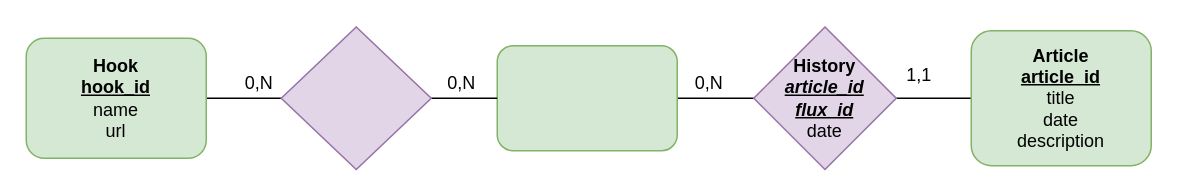
This 1178x195 diagram has some shape labels left out. The box of each missing label's shape, as (x1, y1, x2, y2) in pixels:
Flux flux_id name url: (496, 44, 677, 151)
hang hook_id flux_id: (280, 26, 431, 170)
